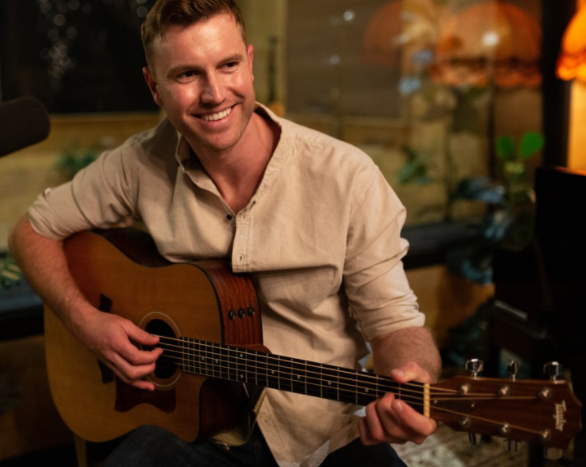fretboard: (179, 337, 425, 421)
